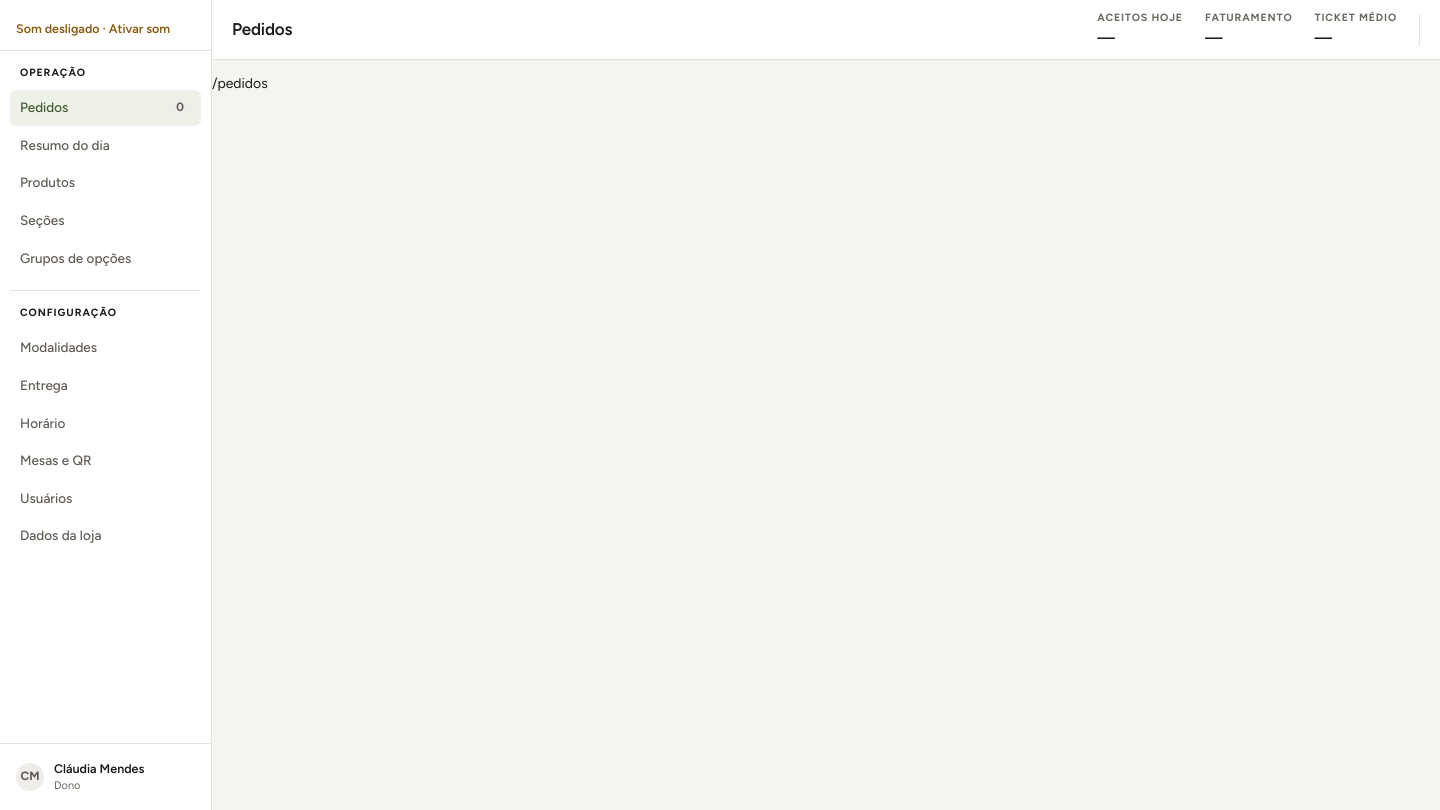
Scenario: trocar senha pelo menu da conta › manda a atual e a nova, e avisa que as outras sessões caíram
Click the button with aria-label "Menu da conta": {"x": 106, "y": 777} [10,754,201,800]
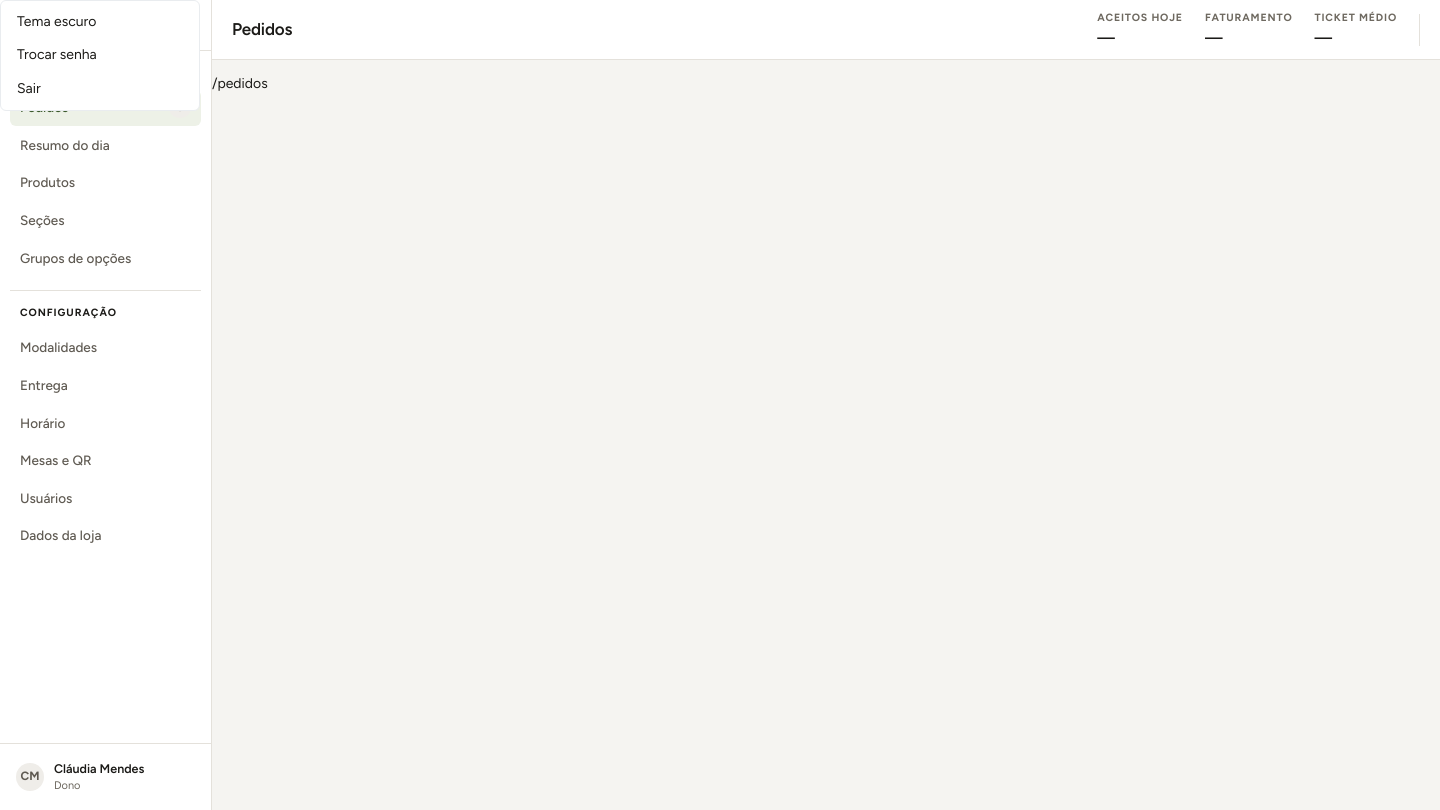
Click the menu item "Trocar senha": {"x": 100, "y": 55} [5,39,195,72]
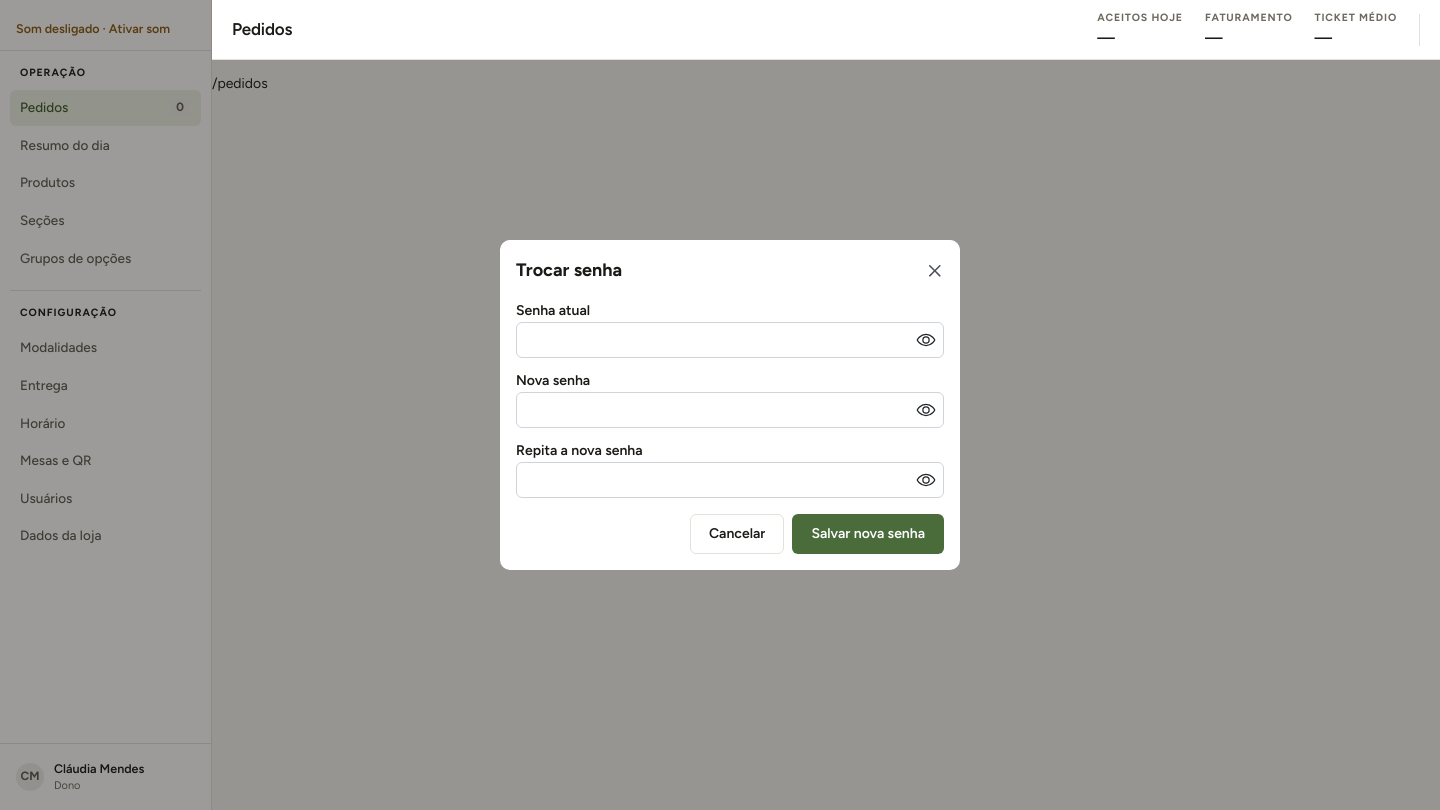
In the password field labelled "Senha atual": {"x": 730, "y": 340} [517,323,943,357], type "senha-antiga"
In the password field labelled "Nova senha": {"x": 730, "y": 410} [517,393,943,427], type "senha-nova-123"
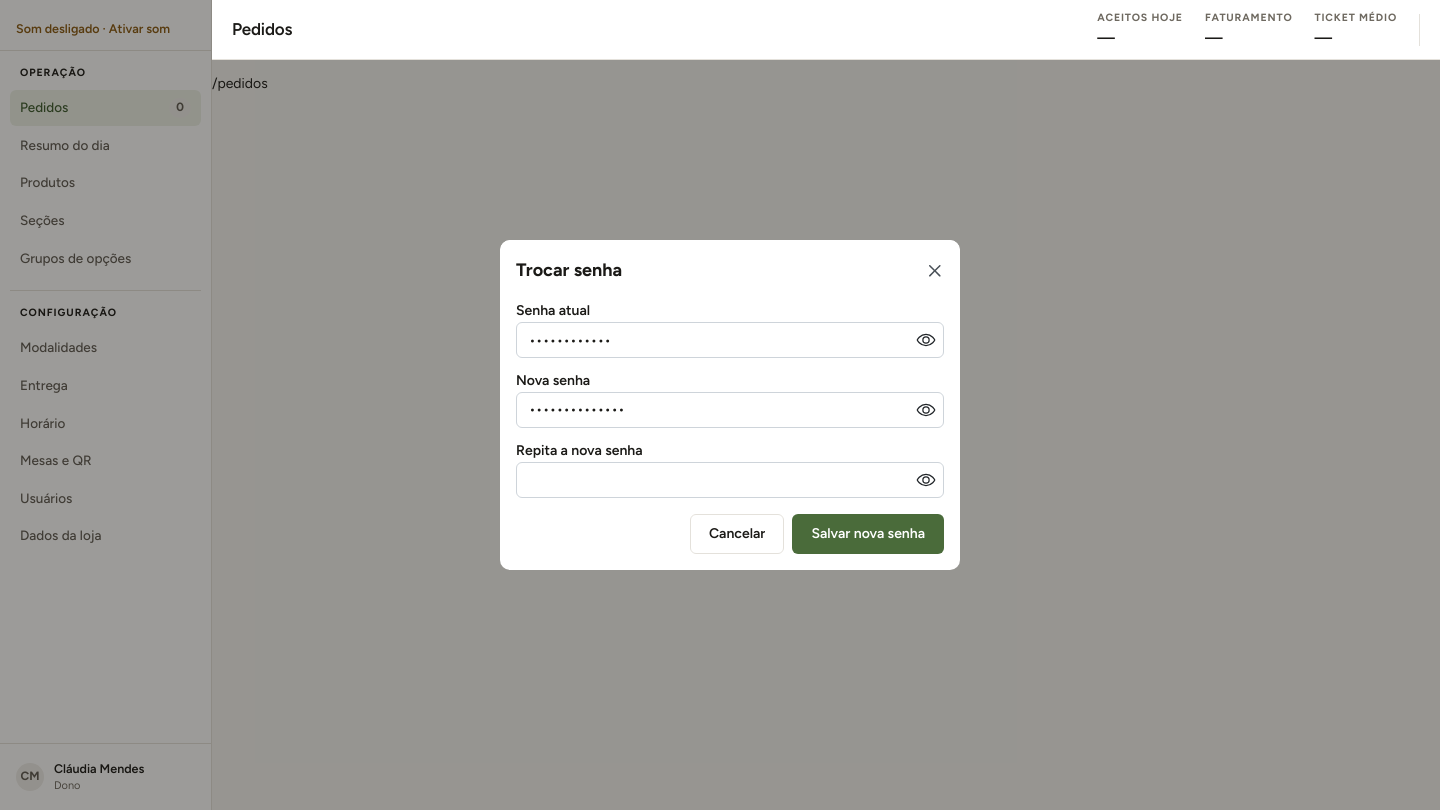
In the password field labelled "Repita a nova senha": {"x": 730, "y": 480} [517,462,943,496], type "senha-nova-123"
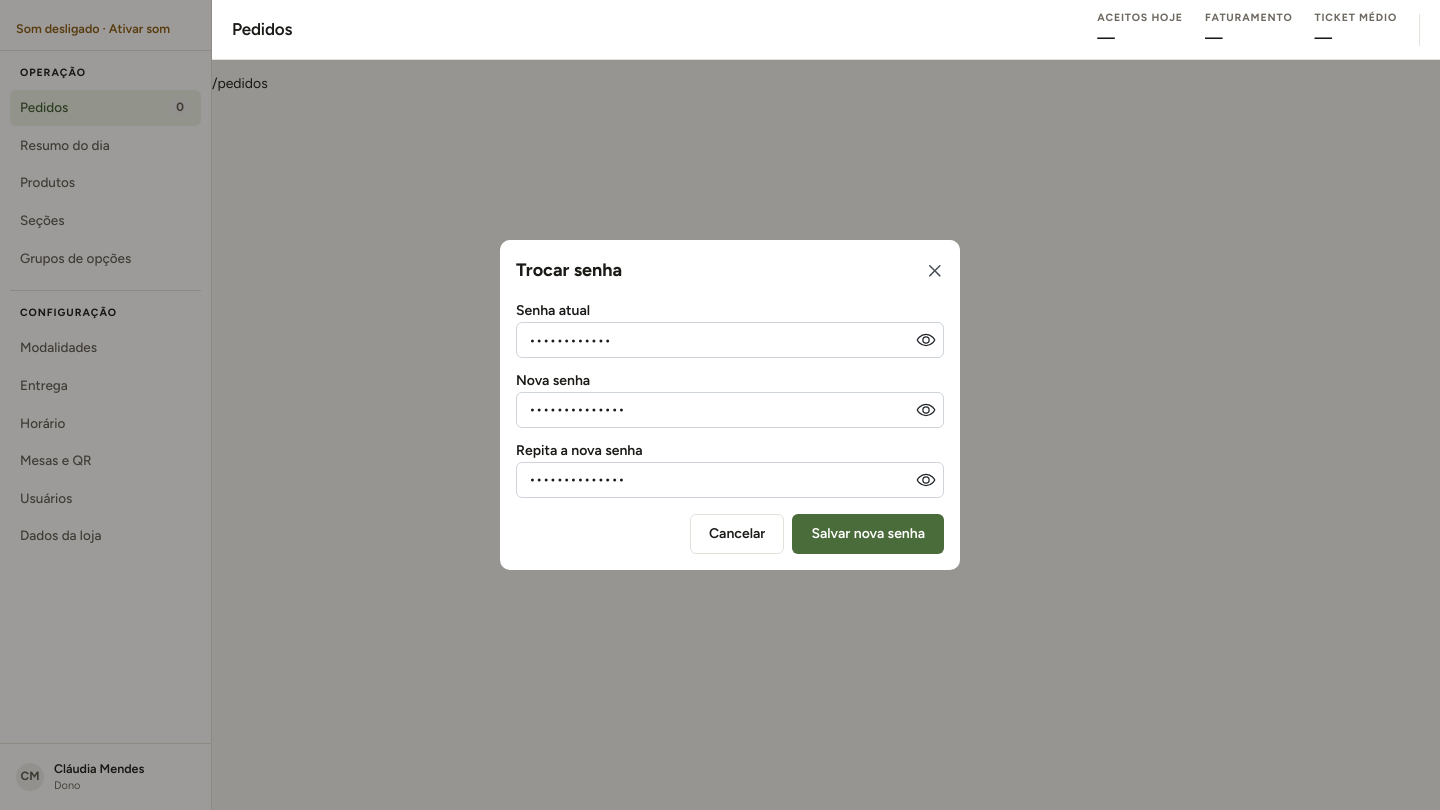
Click the button "Salvar nova senha": {"x": 868, "y": 534} [792,514,944,554]
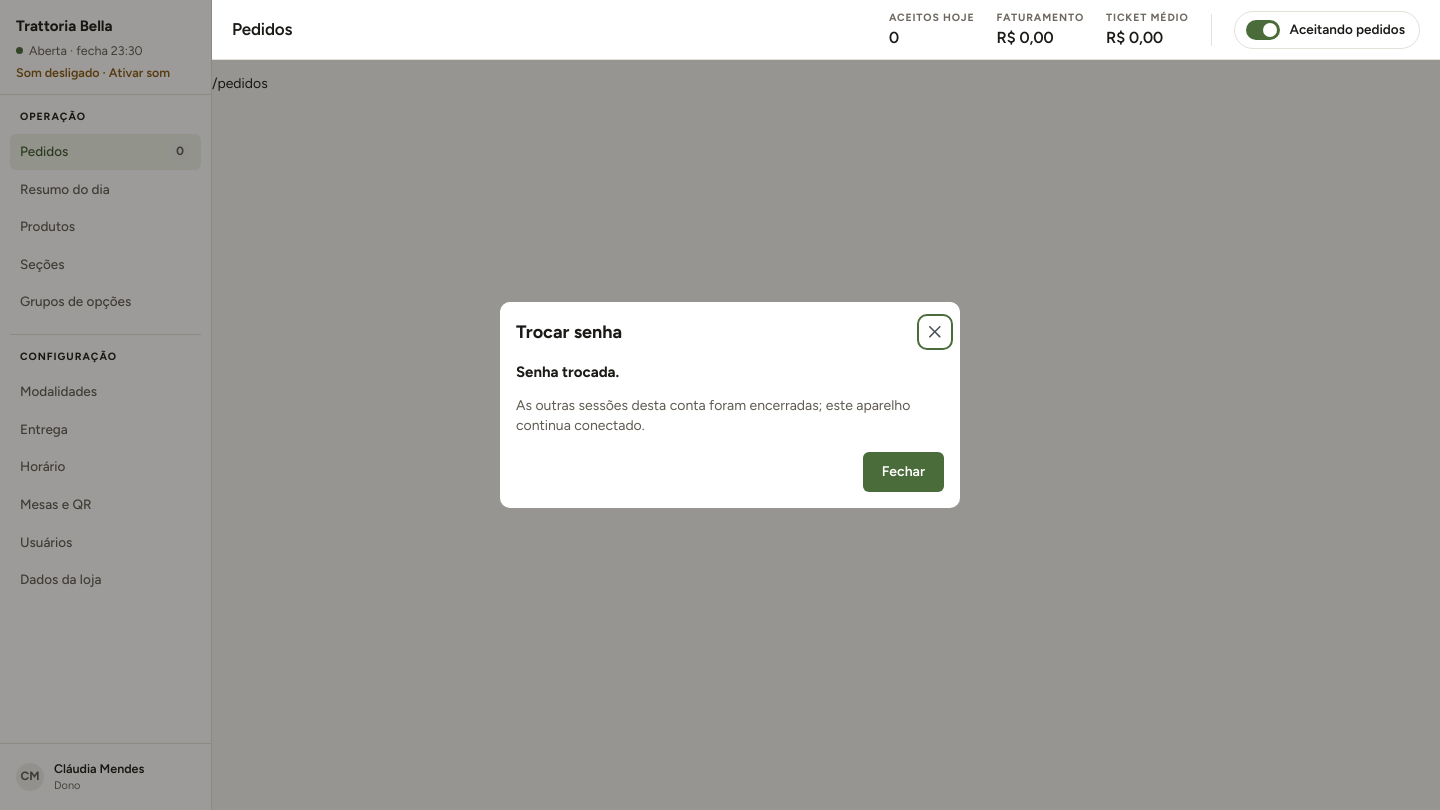
Expected: the text "As outras sessões desta conta foram encerradas; este aparelho continua conectado." is shown, [516,397,910,434]
Expected: the label labelled "Senha atual" is gone
Click the button "Fechar": {"x": 903, "y": 472} [863,452,944,492]
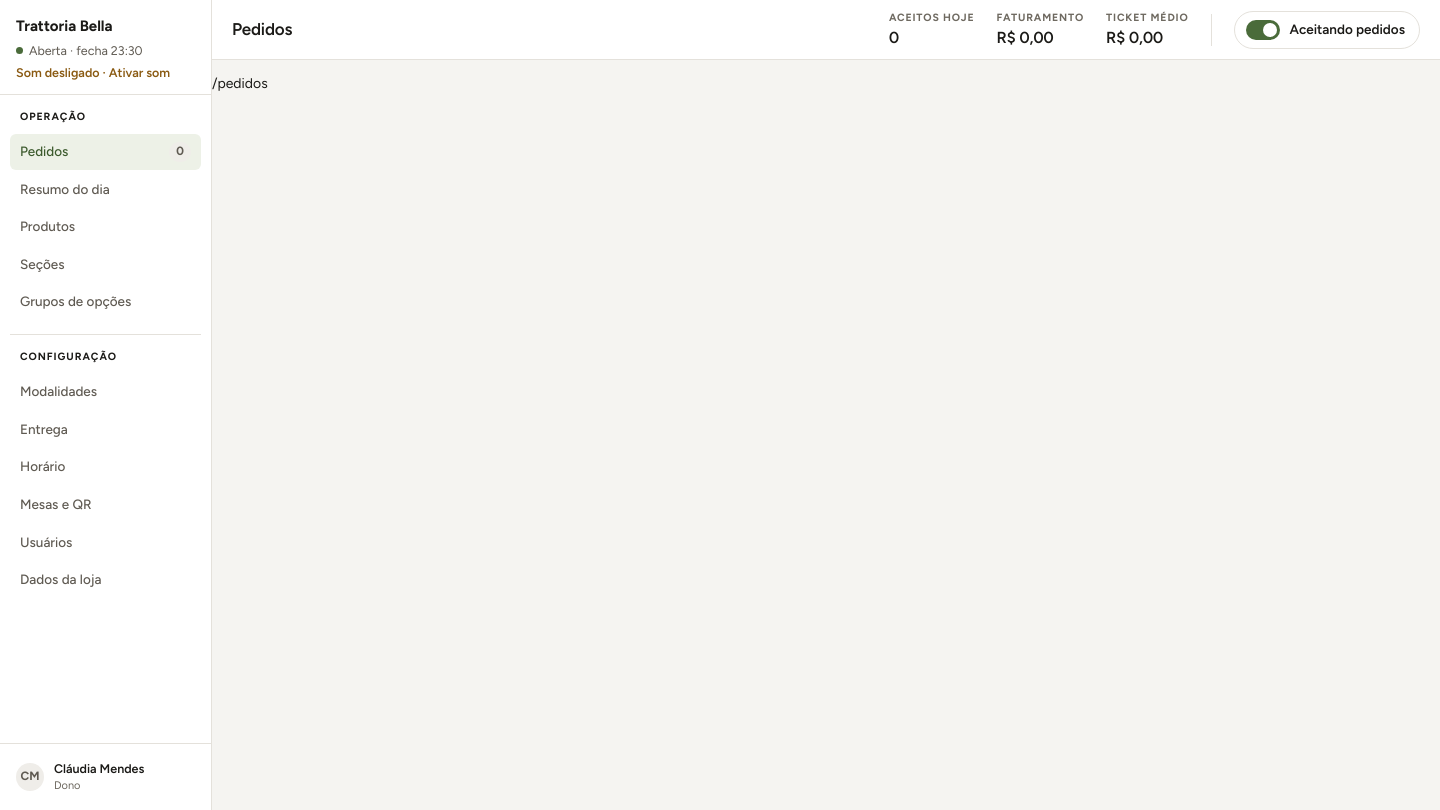
Expected: the dialog is gone
